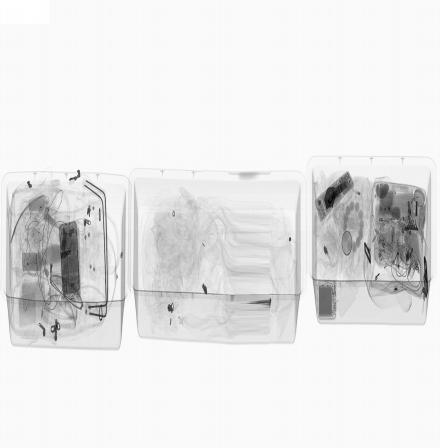Powerbank: (317, 280, 338, 321)
